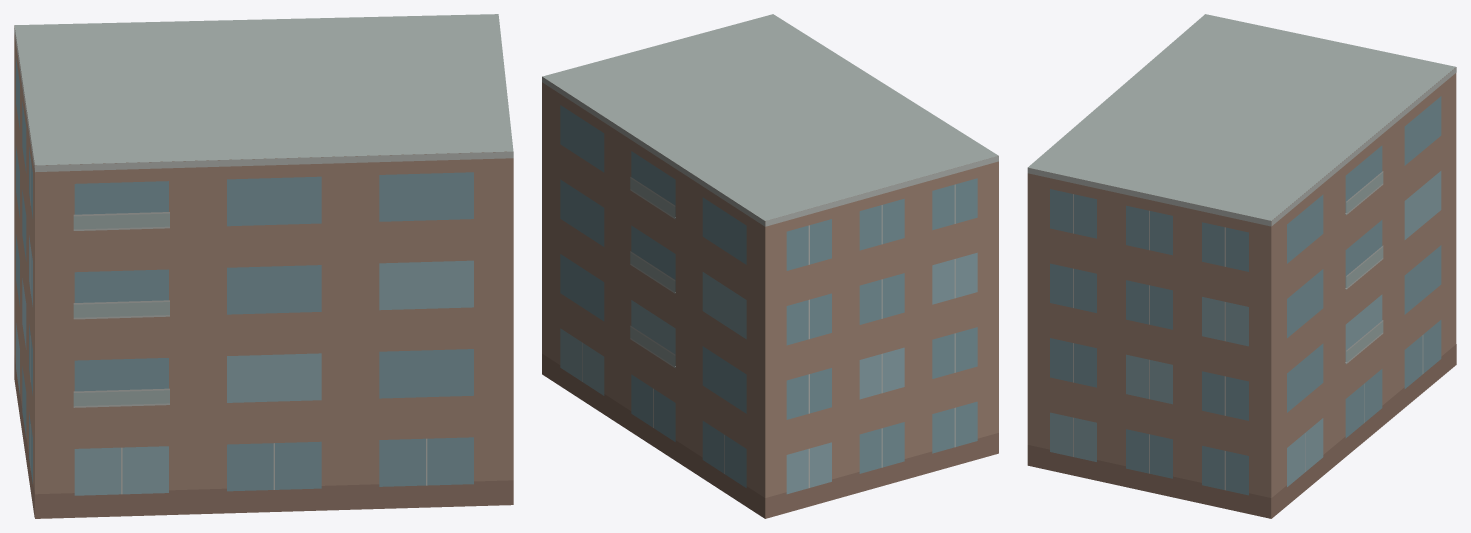
The model's file is survey-upis-32893117.glb.
3 renders of one model, left to right at view 1: azimuth 30°, elevation 25°; view 2: azimuth 150°, elevation 25°; view 3: azimuth 270°, elevation 25°, orthographic. The views are drawn at different scales.
Visible parts, largest first — view 1: survey-upis-32893117.tmp; view 2: survey-upis-32893117.tmp; view 3: survey-upis-32893117.tmp.
Part boxes in pixels (x1,y1,x2,y2): survey-upis-32893117.tmp: (14, 14, 513, 518); survey-upis-32893117.tmp: (542, 14, 998, 518); survey-upis-32893117.tmp: (1027, 14, 1456, 518).
Size of the model in its own units: 19.07 by 12.8 by 16.7.
